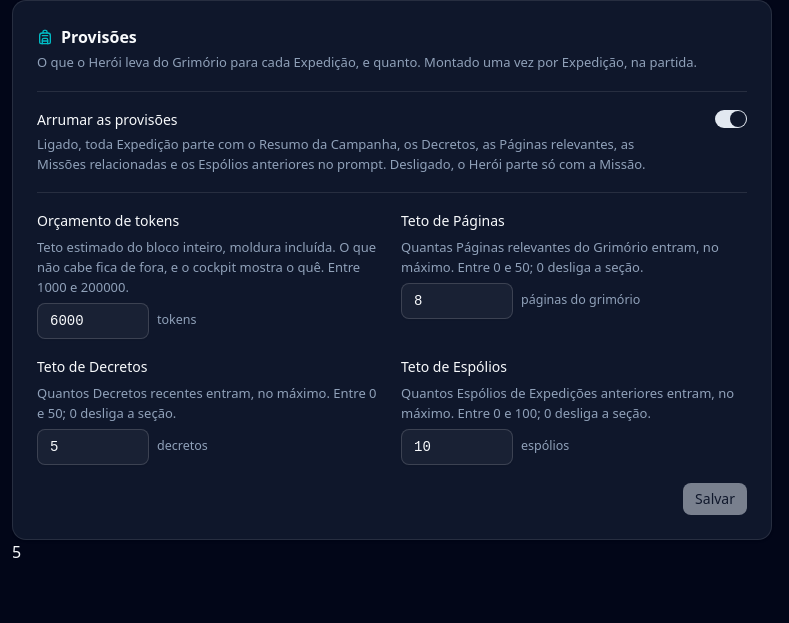
it: bloco das provisões em Settings › recusa orçamento abaixo de 1000, teto acima do máximo e texto que não é inteiro
Replace the text in the number field labelled "Orçamento de tokens" with "999". click: [93, 320]
box: [37,302,149,338]
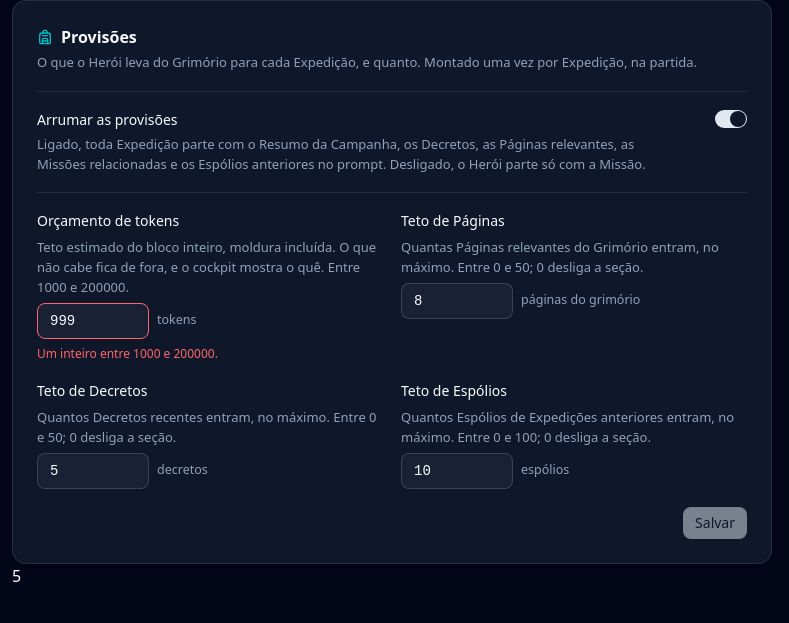
Expected: the button "Salvar" is disabled, [683,506,747,538]
Replace the text in the number field labelled "Teto de Decretos" with "51". click: [93, 470]
box: [37,452,149,488]
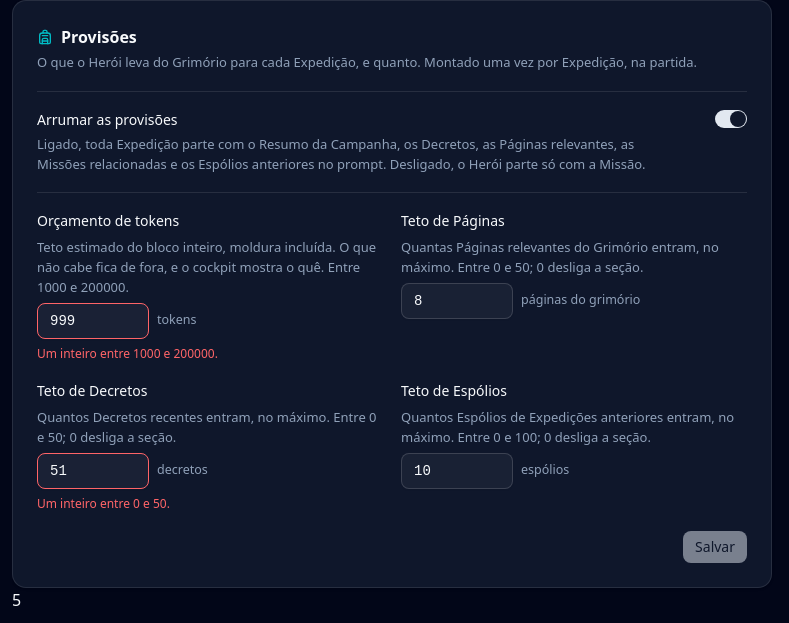
Replace the text in the number field labelled "Teto de Espólios" with "-1". click: [457, 470]
box: [401,452,513,488]
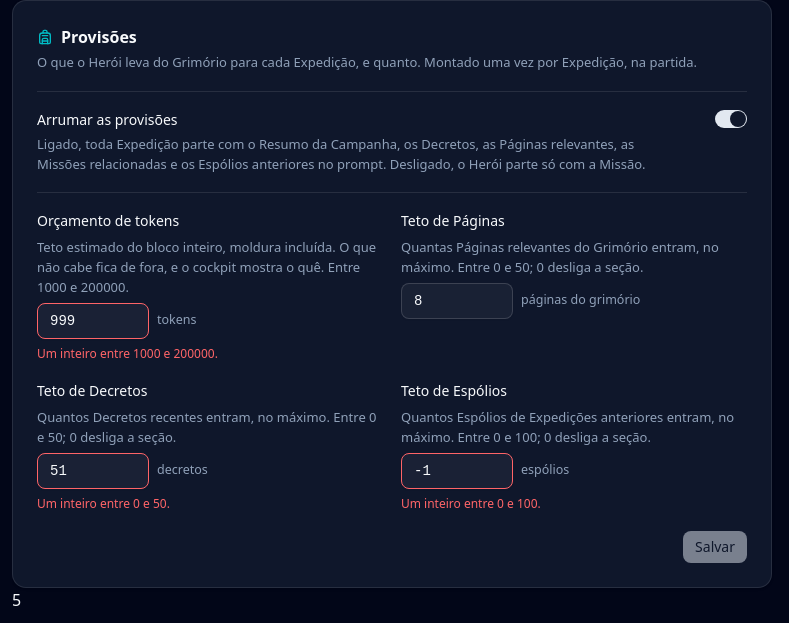
Replace the text in the number field labelled "Orçamento de tokens" with "1000". click: [93, 320]
box: [37,302,149,338]
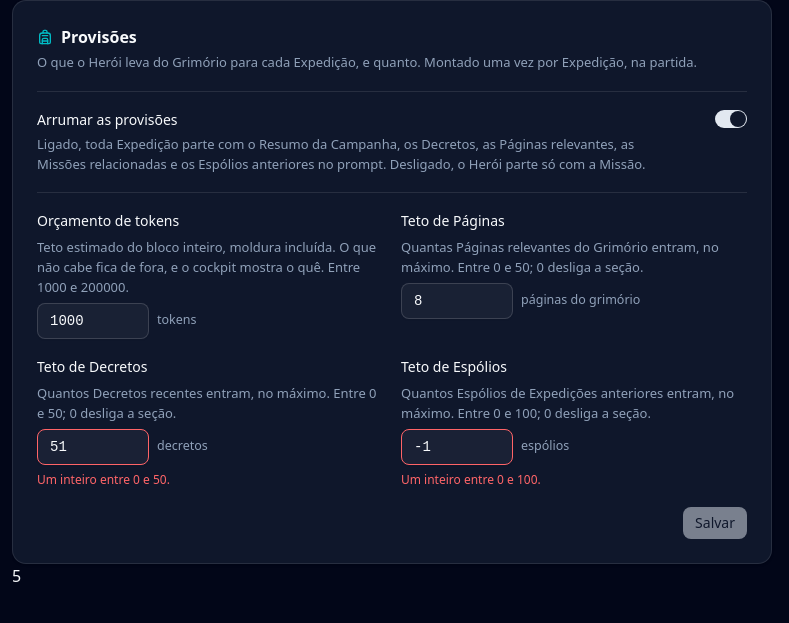
Replace the text in the number field labelled "Teto de Decretos" with "50". click: [93, 446]
box: [37,428,149,464]
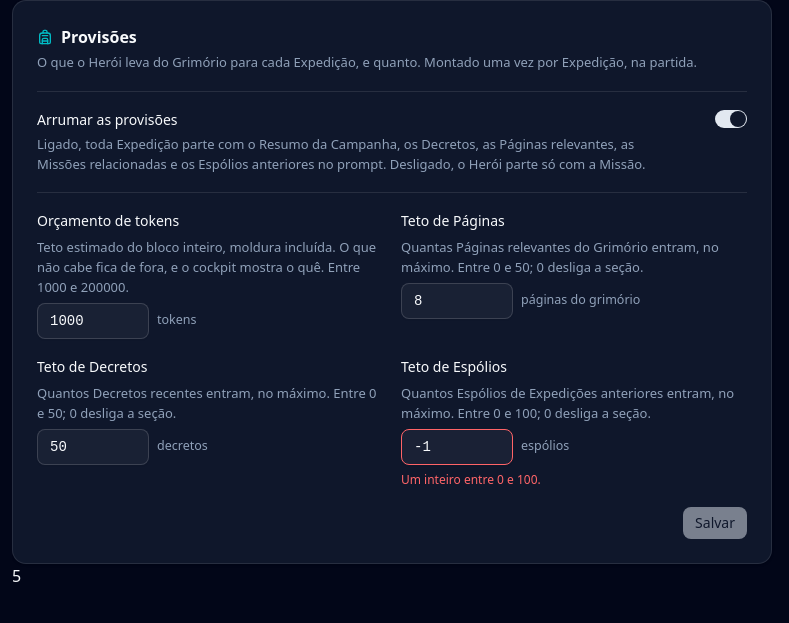
Replace the text in the number field labelled "Teto de Espólios" with "0". click: [457, 446]
box: [401,428,513,464]
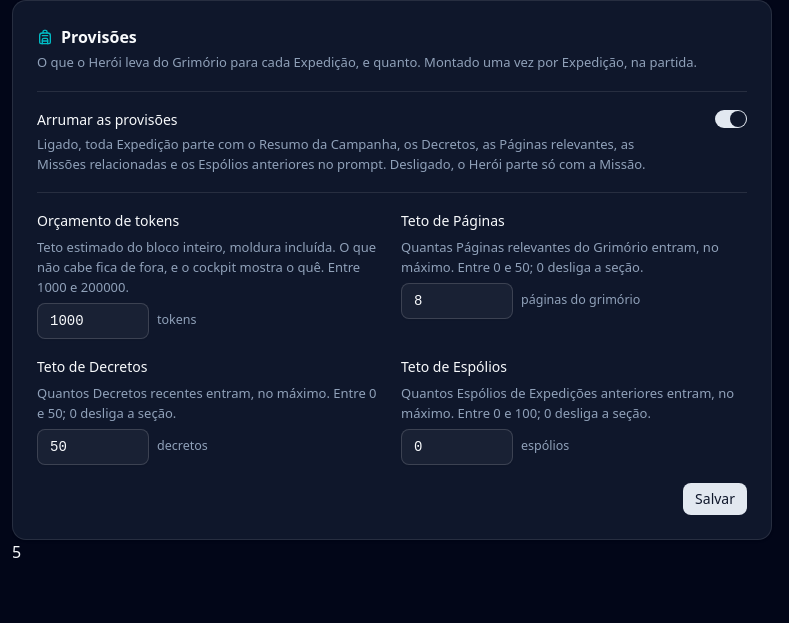
Expected: the button "Salvar" is enabled, [683,482,747,514]
